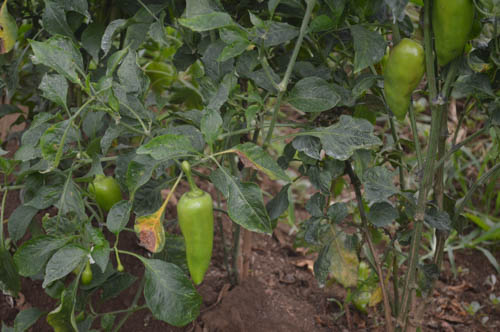ChiliPepper: (174, 189, 213, 294), (384, 40, 425, 122), (432, 1, 470, 69), (90, 176, 123, 211)
